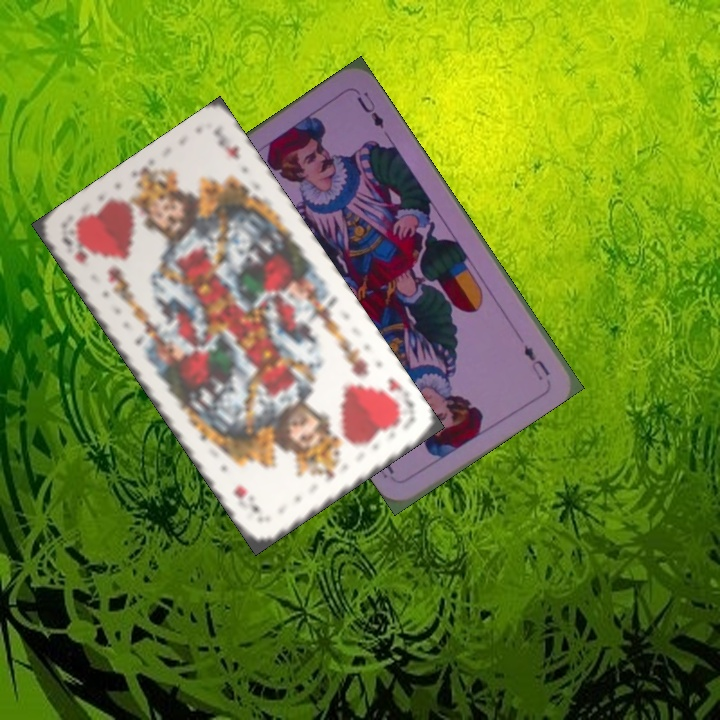EU: (519, 341, 553, 383)
HK: (377, 374, 418, 424), (58, 228, 91, 267)
